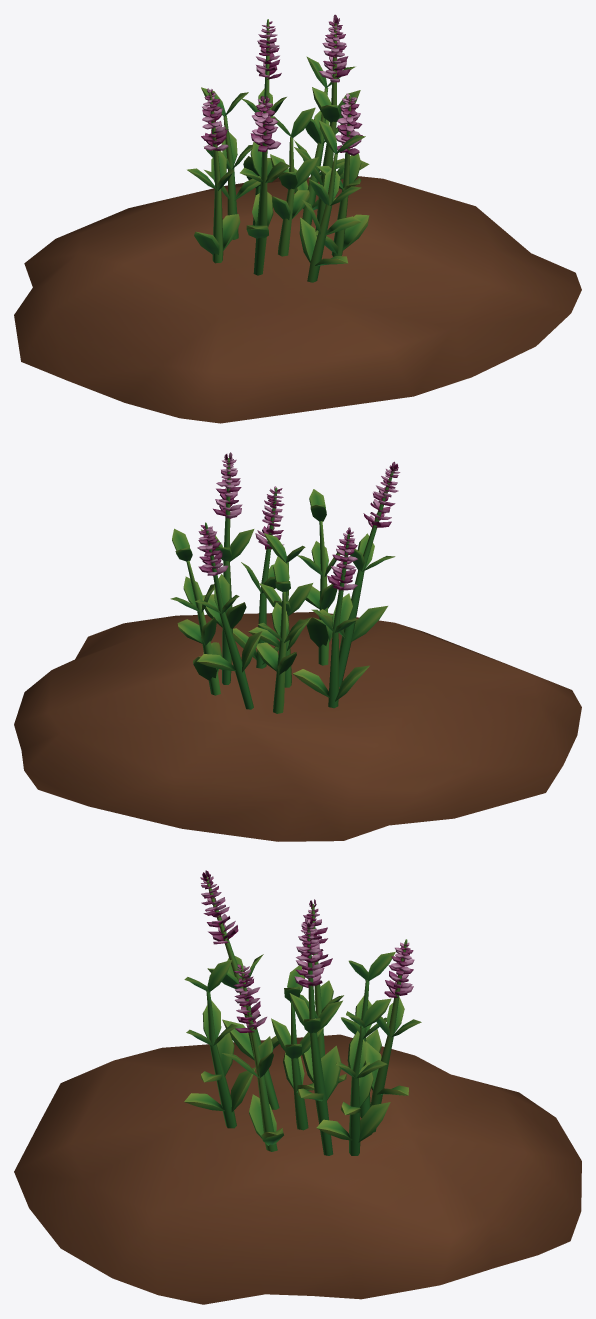
Rendered from SM_PlantSoil_SweetBasil_Lv3.fbx.
3 views of the same model, one above another, from view 1: azimuth 30°, elevation 25°; view 2: azimuth 150°, elevation 25°; view 3: azimuth 270°, elevation 25° (orthographic). The views are drawn at different scales.
Visible parts, largest first — view 1: SM_PlantSoil_SweetBasil_Lv3; view 2: SM_PlantSoil_SweetBasil_Lv3; view 3: SM_PlantSoil_SweetBasil_Lv3.
Part boxes in pixels (x1=…): SM_PlantSoil_SweetBasil_Lv3: x1=14, y1=14, x2=581, y2=423; SM_PlantSoil_SweetBasil_Lv3: x1=14, y1=452, x2=581, y2=841; SM_PlantSoil_SweetBasil_Lv3: x1=14, y1=870, x2=581, y2=1304.
Bounding box in the file's own units: 118 × 67.34 × 106.
